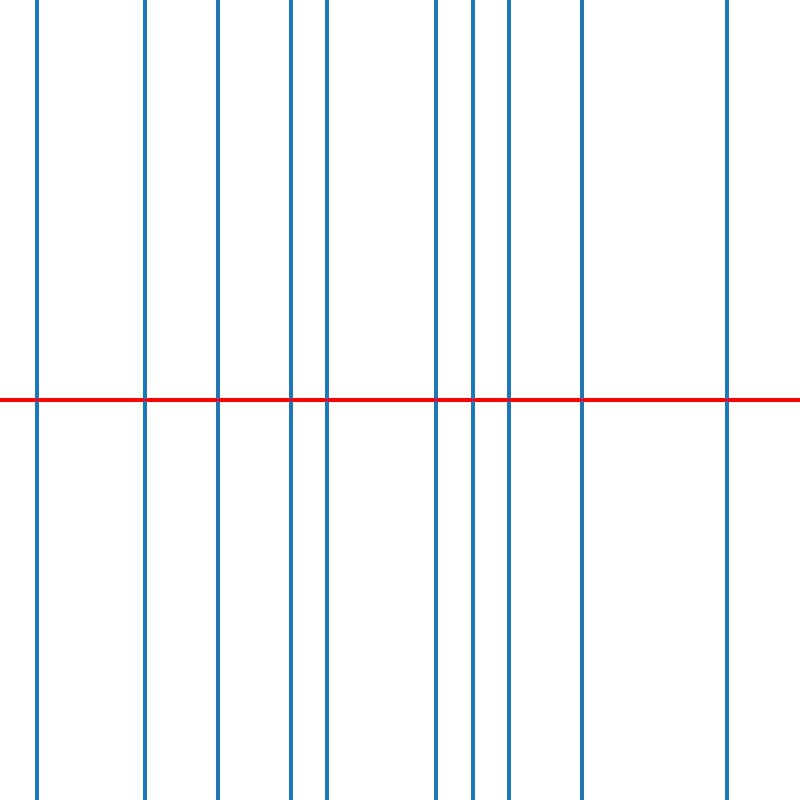root: (432, 396, 440, 404), (141, 396, 149, 404), (32, 396, 40, 404), (214, 396, 221, 404), (287, 396, 294, 404), (723, 396, 730, 404), (505, 396, 512, 404), (469, 396, 476, 404), (323, 396, 330, 404), (578, 396, 585, 404)
